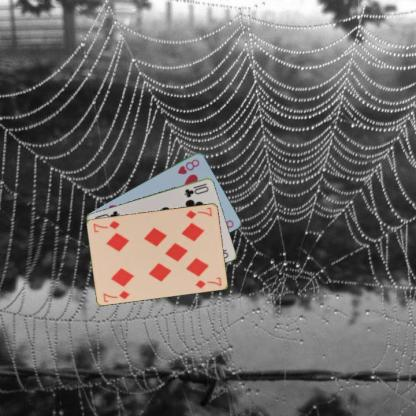10c: (182, 181, 210, 199)
7d: (183, 205, 213, 220), (101, 288, 130, 302)
8h: (175, 156, 201, 176)
